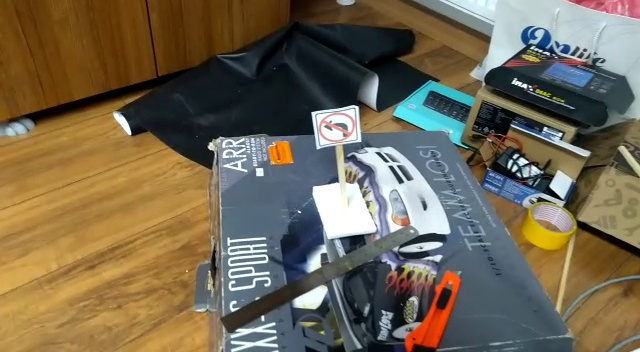sola_donulmez: (317, 109, 358, 143)
